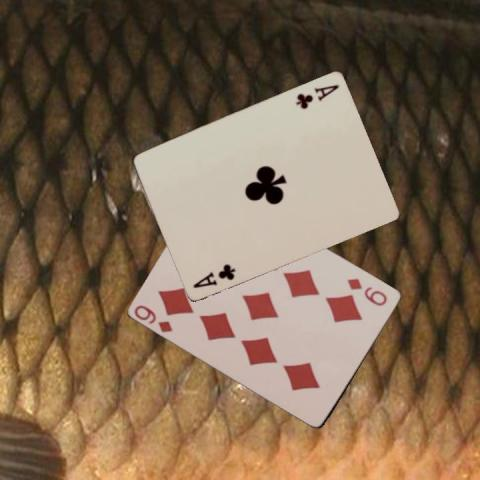9d: (131, 301, 175, 334), (344, 275, 389, 307)
Ac: (292, 81, 341, 110), (190, 261, 237, 289)
